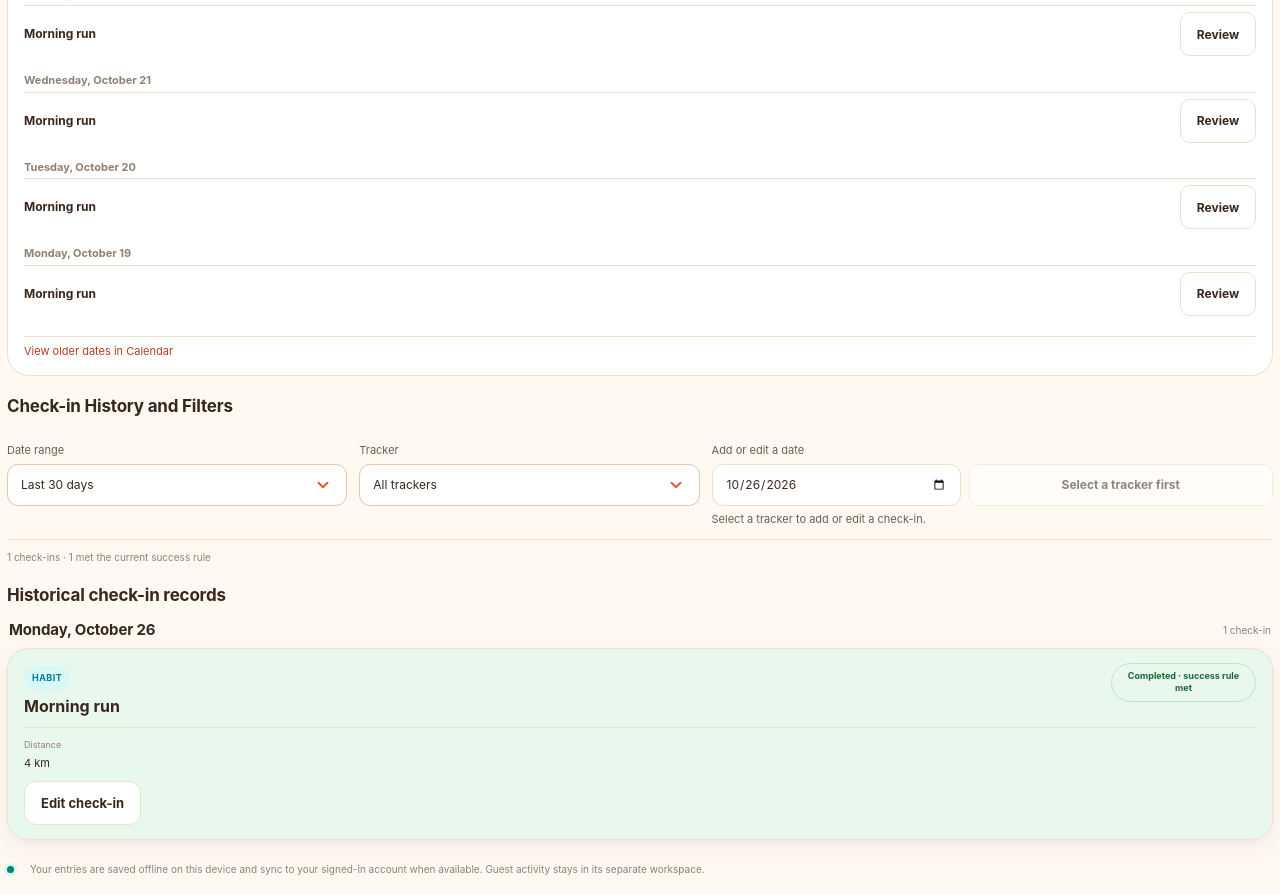
Test: local check-in history › uses Edit check-in when the selected tracker and date already have a saved entry
The image size is (1280, 894).
(page scrolled)
Select "Morning run" in the dropdown labelled "Tracker" at {"x": 529, "y": 485}, box [359,464,700,506]
(page scrolled)
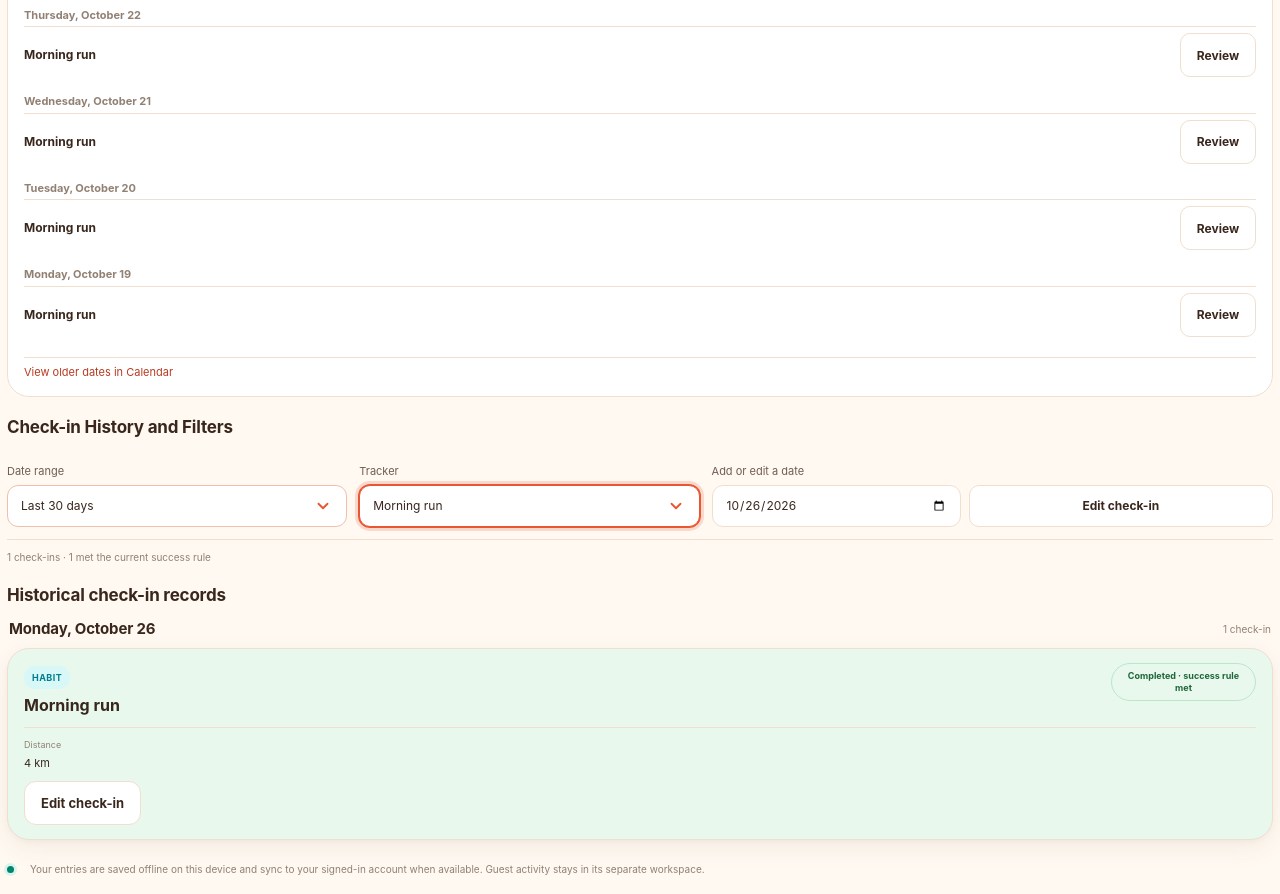
Expected: the button "Edit check-in" below "Add or edit a date" is enabled
Click the button "Edit check-in" below "Add or edit a date".
click(1121, 506)  # box [969,485,1273,527]
(page scrolled)
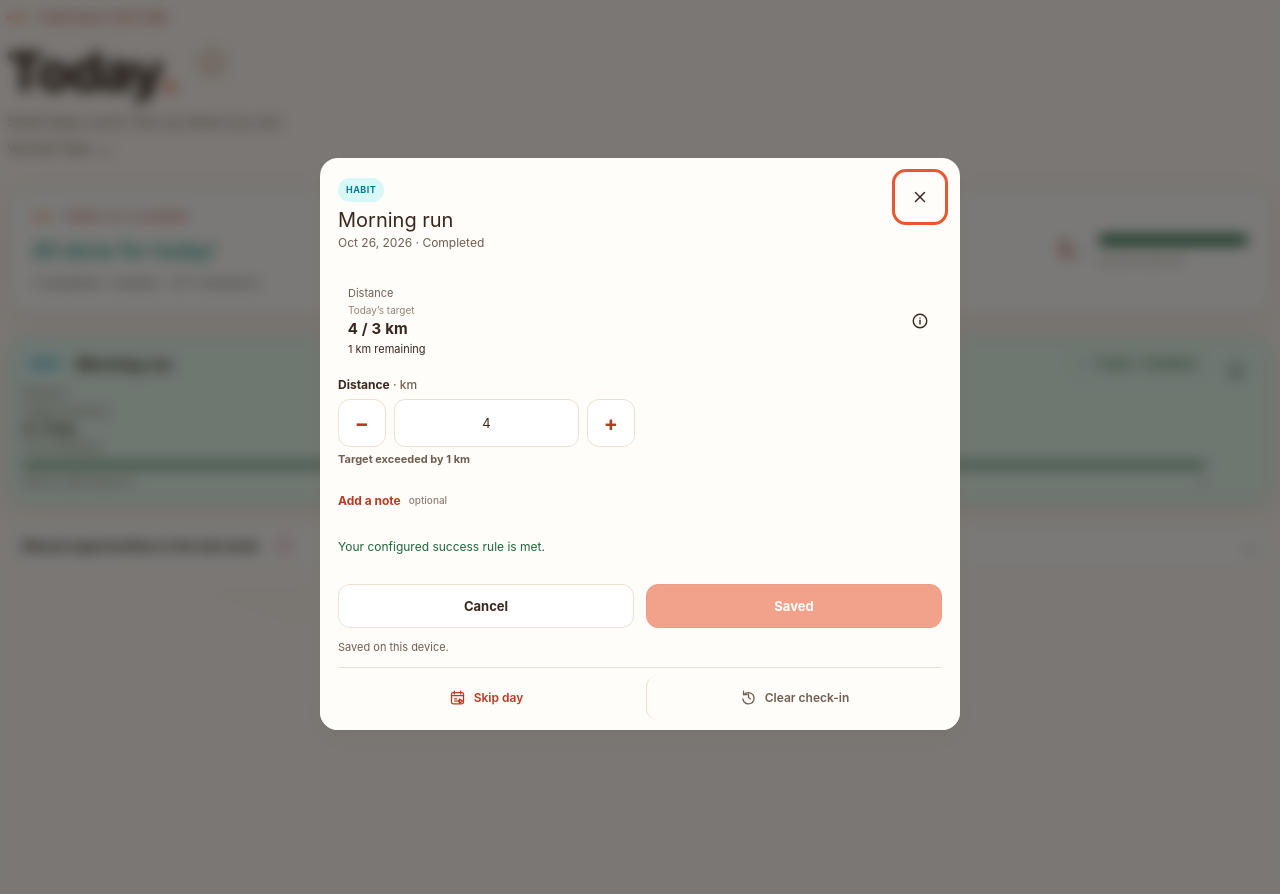
Expected: the button "Saved" is shown, [646,584,942,628]
Expected: the number field labelled "Distance" holds "4", [394,399,579,447]
